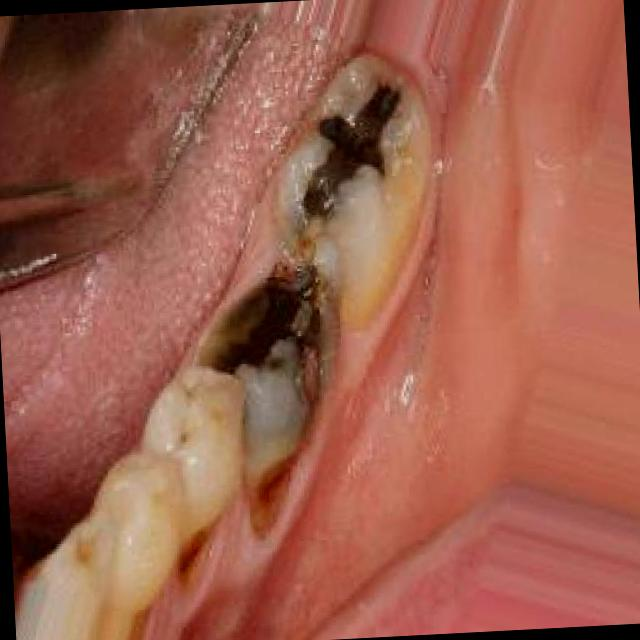caries: (194, 236, 335, 420), (284, 59, 426, 226)
